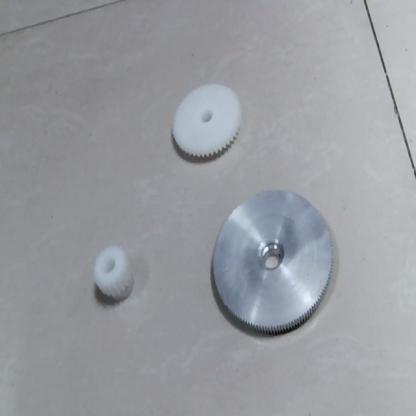FOD: (207, 187, 338, 334), (168, 80, 244, 166), (94, 238, 140, 311)
